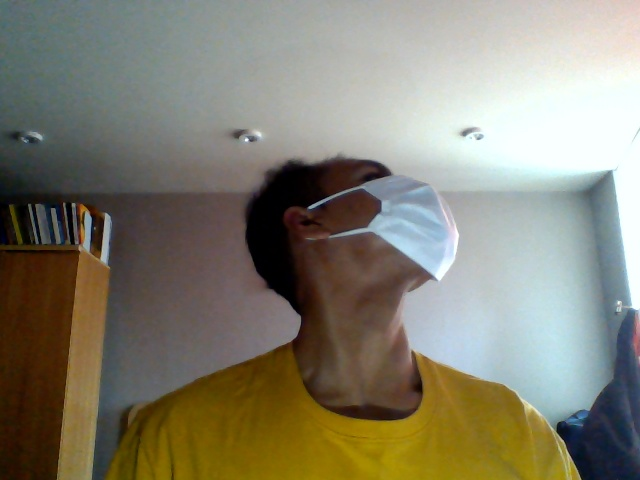mask: (355, 174, 460, 288)
